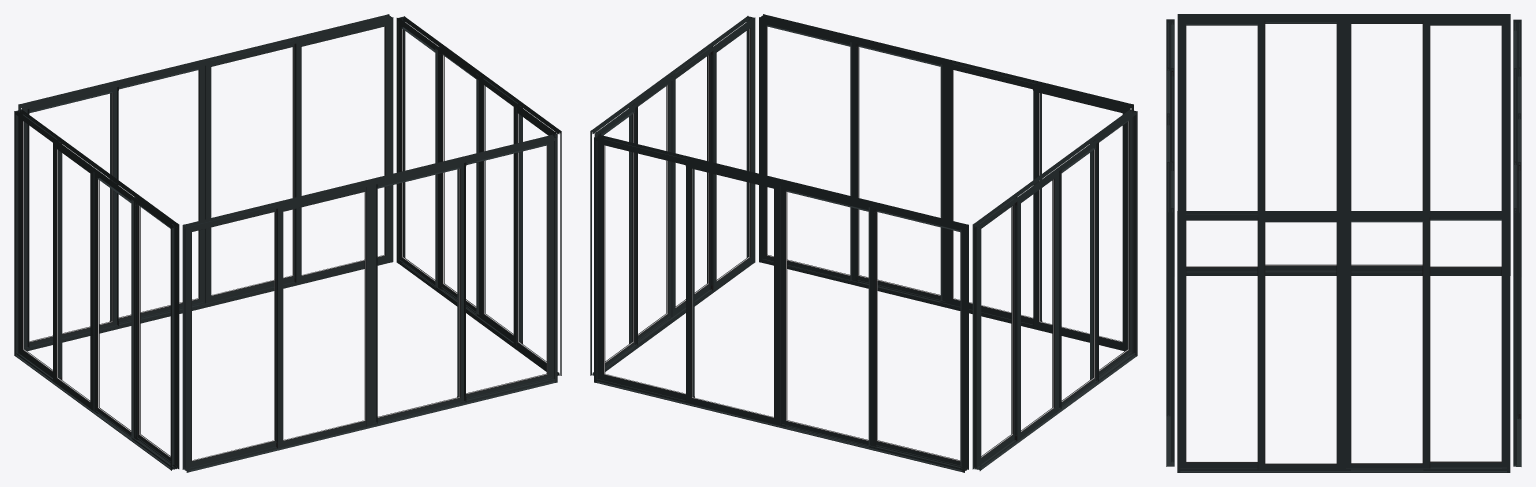
The picture shows the model from 3 angles, left to right: view 1: azimuth 30°, elevation 25°; view 2: azimuth 150°, elevation 25°; view 3: azimuth 270°, elevation 25°; orthographic projection. The views are drawn at different scales.
Visible parts, largest first — view 1: priximbattable_net_pergola_aluminium_1282_pergola_aluminium_, folha2_4, folha1, folha3_4, folha2, folha4, folha2_2, folha3_2, folha4_2, folha1_4, folha4_3, folha2_3 (+5 smaller); view 2: priximbattable_net_pergola_aluminium_1282_pergola_aluminium_, folha2, folha3, folha1_4, folha4_4, folha2_2, folha1_3, folha1, folha2_4, folha2_3, folha3_4, folha3_2 (+5 smaller); view 3: priximbattable_net_pergola_aluminium_1282_pergola_aluminium_, folha2_3, folha3_3, folha1_2, folha4_2, folha2_2, folha1_3, folha4_3, folha3_2, folha1, folha2, folha4_4 (+4 smaller).
Boxes of the visible parts, x1,y1,x2,y2 form: priximbattable_net_pergola_aluminium_1282_pergola_aluminium_: [14, 14, 561, 472]; folha2_4: [276, 185, 373, 448]; folha1: [294, 20, 390, 282]; folha3_4: [373, 162, 466, 423]; folha2: [202, 40, 294, 303]; folha4: [22, 87, 118, 347]; folha2_2: [53, 142, 96, 411]; folha3_2: [93, 172, 137, 439]; folha4_2: [134, 196, 178, 466]; folha1_4: [184, 205, 276, 468]; folha4_3: [400, 23, 441, 289]; folha2_3: [479, 75, 522, 343]; priximbattable_net_pergola_aluminium_1282_pergola_aluminium_: [590, 14, 1137, 472]; folha2: [685, 162, 782, 425]; folha3: [780, 186, 875, 446]; folha1_4: [1033, 86, 1127, 348]; folha4_4: [763, 21, 857, 281]; folha2_2: [1014, 171, 1058, 441]; folha1_3: [710, 21, 753, 290]; folha1: [598, 139, 694, 400]; folha2_4: [945, 62, 1042, 324]; folha2_3: [669, 46, 712, 317]; folha3_4: [857, 44, 945, 301]; folha3_2: [1058, 140, 1098, 408]; priximbattable_net_pergola_aluminium_1282_pergola_aluminium_: [1166, 14, 1521, 472]; folha2_3: [1257, 217, 1345, 470]; folha3_3: [1346, 217, 1430, 470]; folha1_2: [1422, 20, 1507, 272]; folha4_2: [1181, 20, 1265, 271]; folha2_2: [1342, 20, 1423, 271]; folha1_3: [1180, 214, 1257, 468]; folha4_3: [1430, 217, 1506, 468]; folha3_2: [1264, 20, 1341, 271]; folha1: [1513, 161, 1517, 465]; folha2: [1517, 116, 1521, 419]; folha4_4: [1170, 161, 1174, 462].
Size of the model in its own units: 399 by 240 by 299.
Materials: 1 (1 with a texture image).
